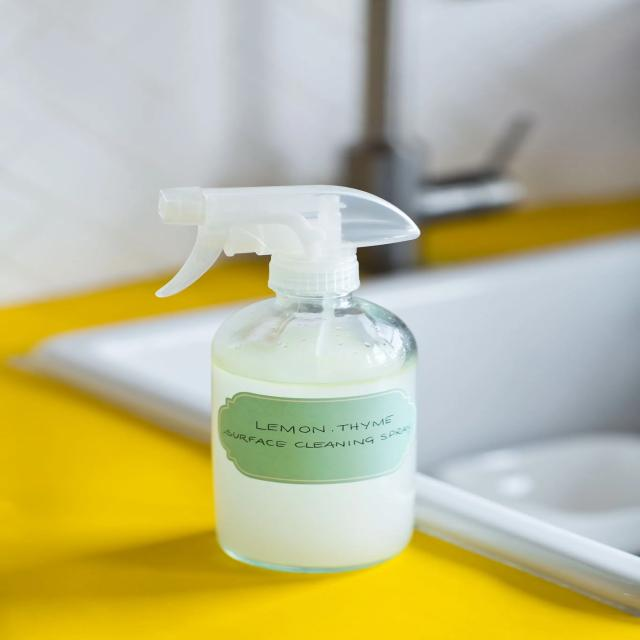plastic: (136, 180, 435, 574)
